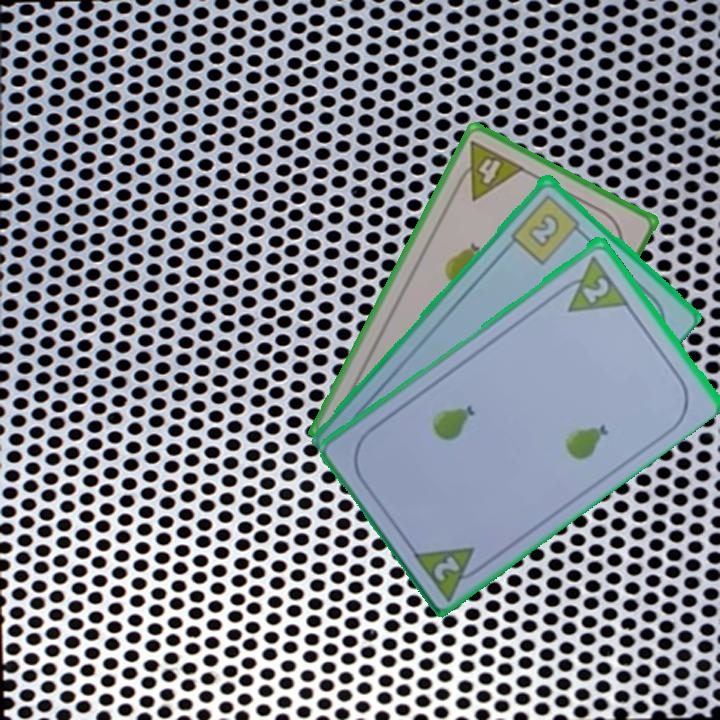2b: (507, 190, 588, 267)
2p: (552, 251, 631, 315), (408, 542, 491, 602)
4p: (450, 137, 528, 203)
